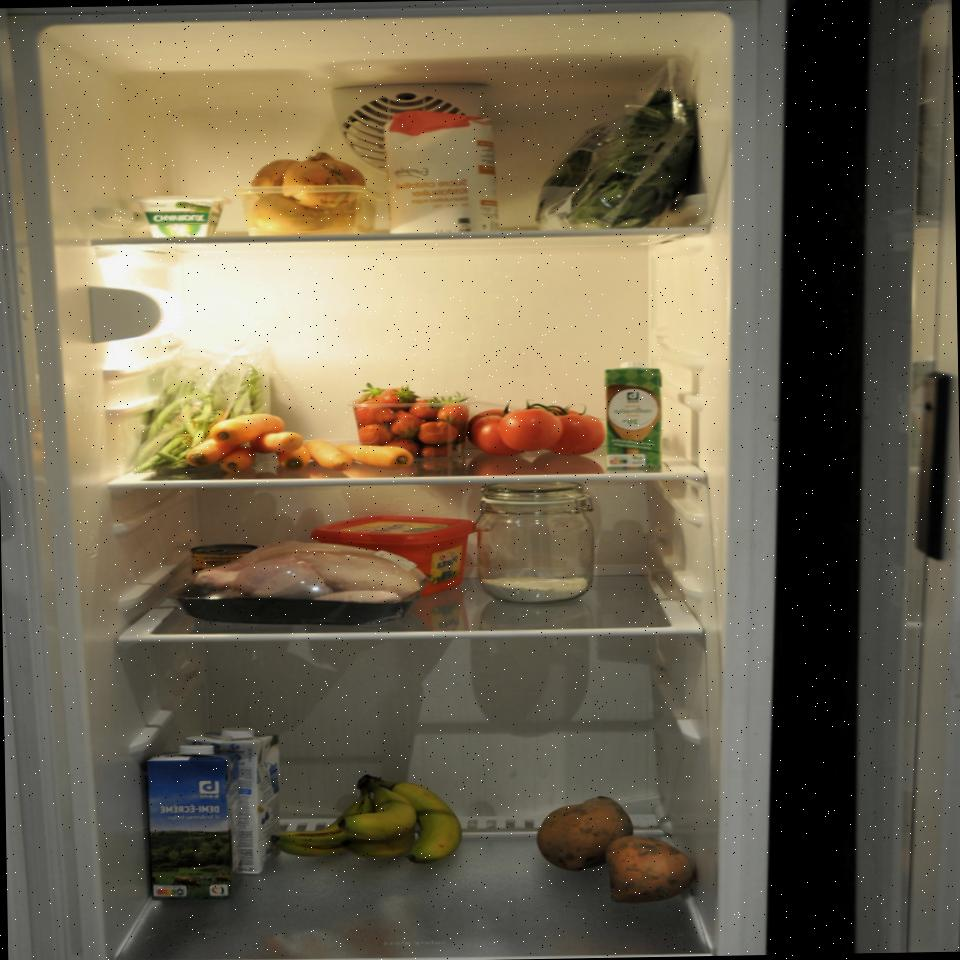Carne pollo: (162, 533, 434, 627)
Leche: (141, 744, 244, 902), (184, 724, 282, 878)
Mantequilla: (308, 512, 481, 602)
Plátano: (268, 772, 465, 868)
Tomate: (466, 396, 606, 462)
Zanahoria: (184, 412, 313, 482), (304, 437, 412, 472)
strawberries: (347, 378, 472, 464)
